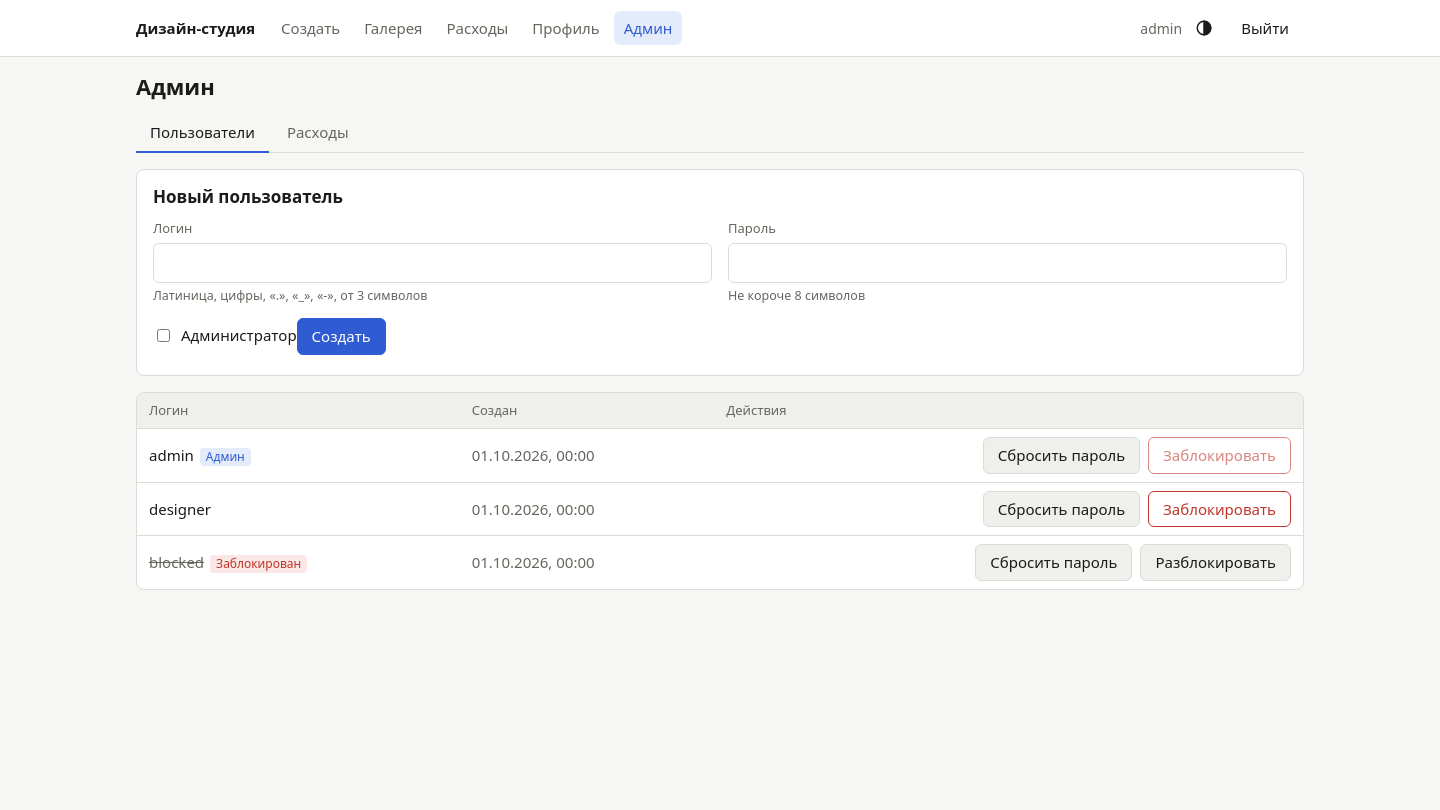
T14 · 1: создание пользователя › неверный логин и короткий пароль показывают ошибки и не отправляют запрос
The image size is (1440, 810).
Type "ab" into the field with id "new-username".
click(432, 263); type("ab")  # box [153,243,712,283]
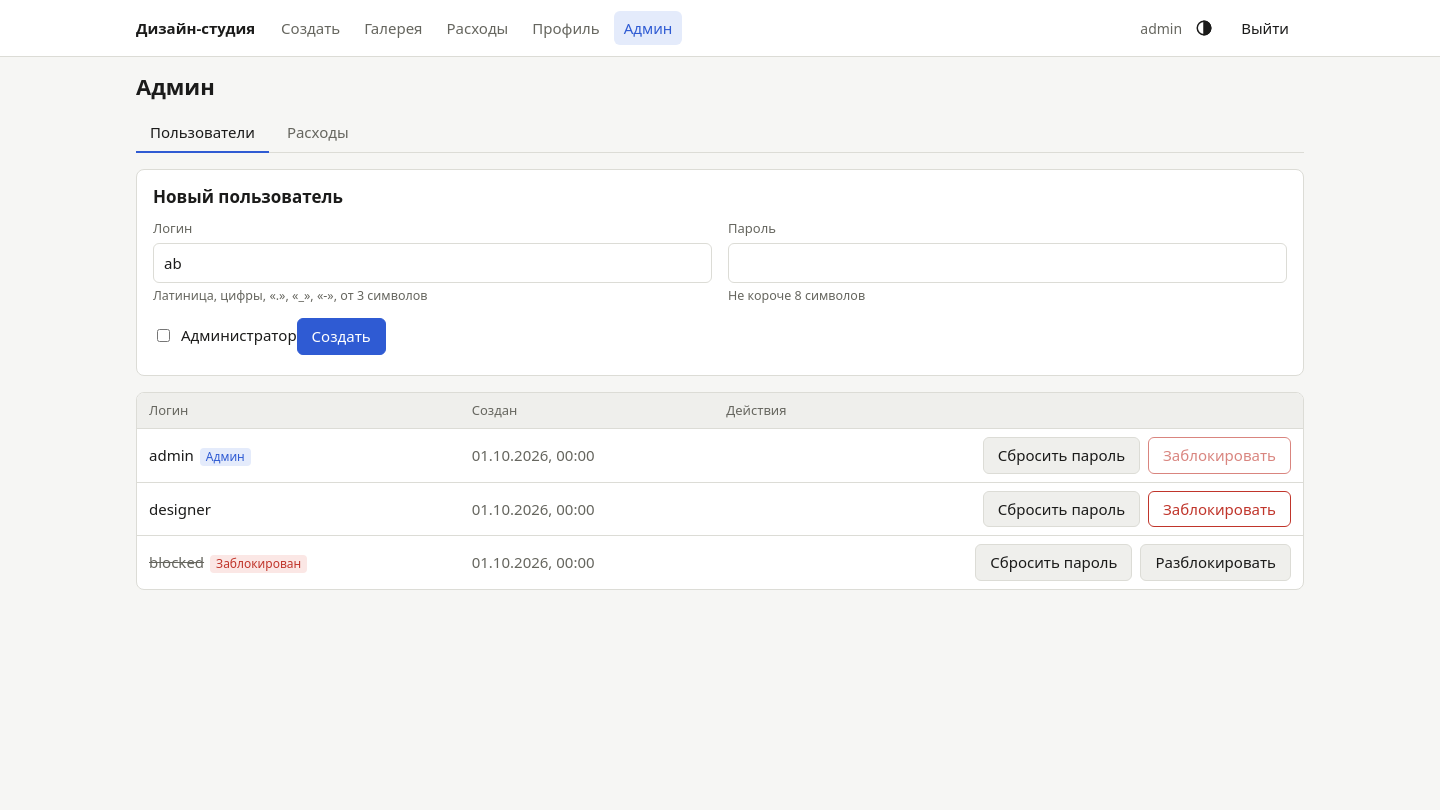
Type "short" into the password field with id "new-password".
click(1008, 263); type("short")  # box [728,243,1287,283]
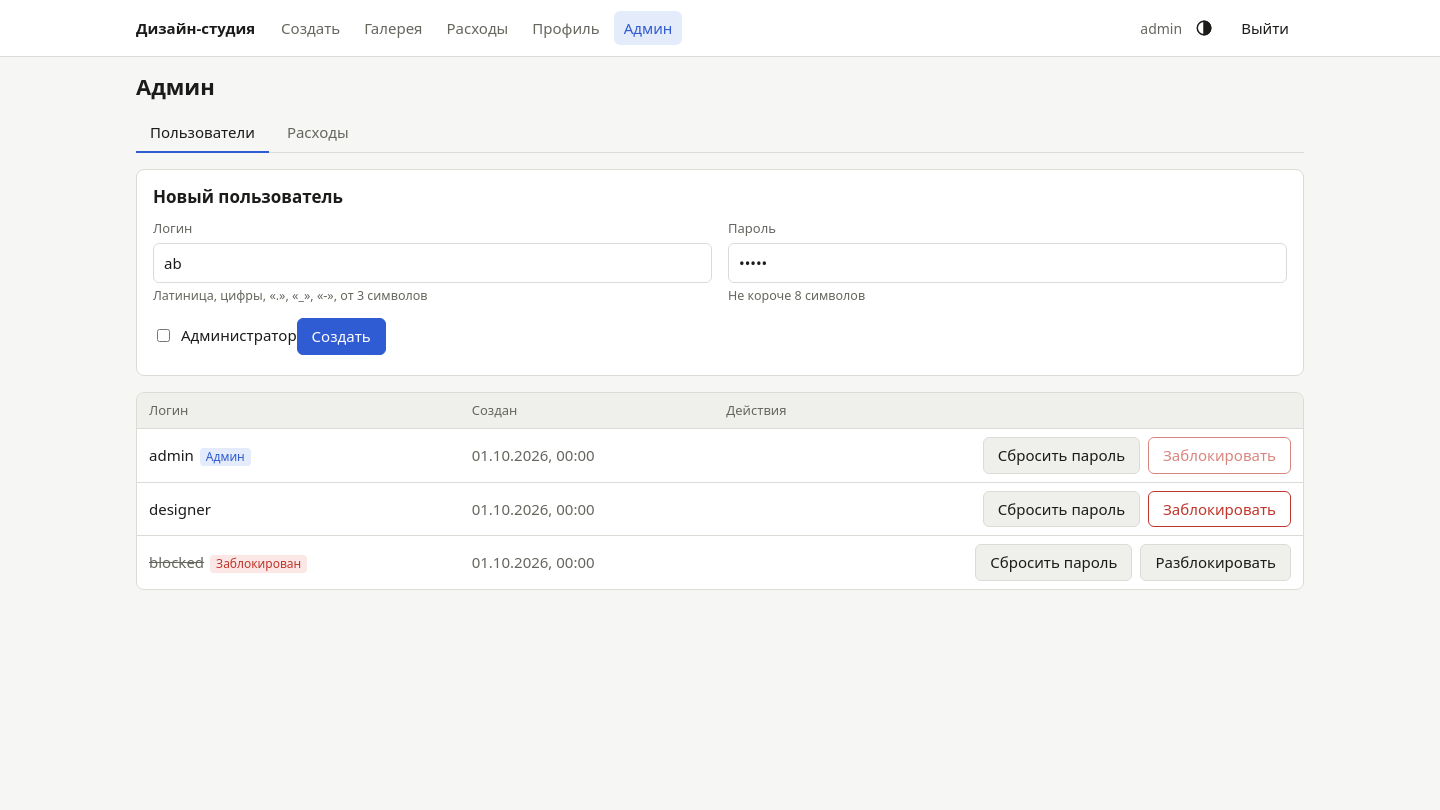
Submit the form with test id "create-form", box [136,169,1304,376]
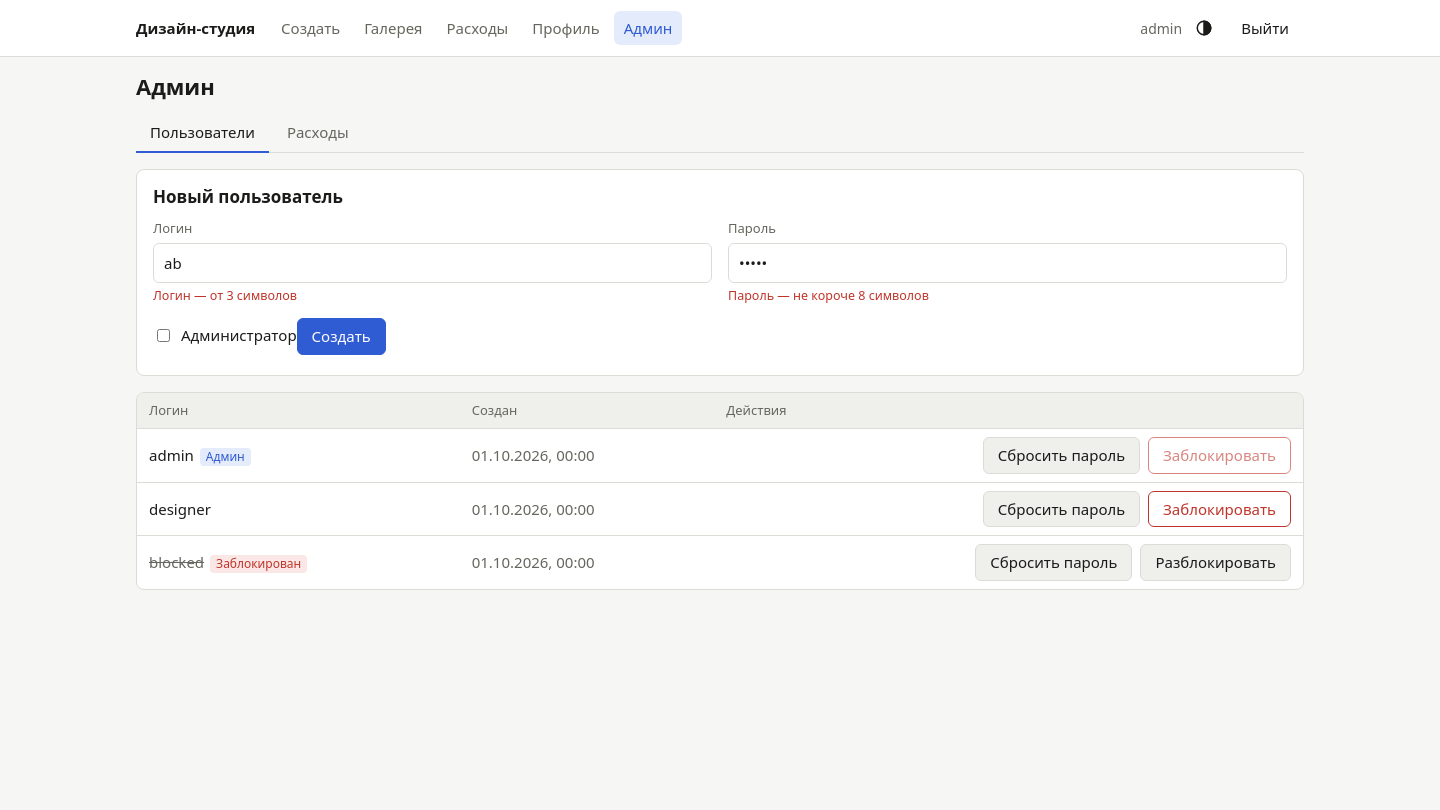
Expected: the text with test id "username-error" shows "от 3", [153,287,297,304]
Expected: the text with test id "password-error" shows "8", [728,287,929,304]
